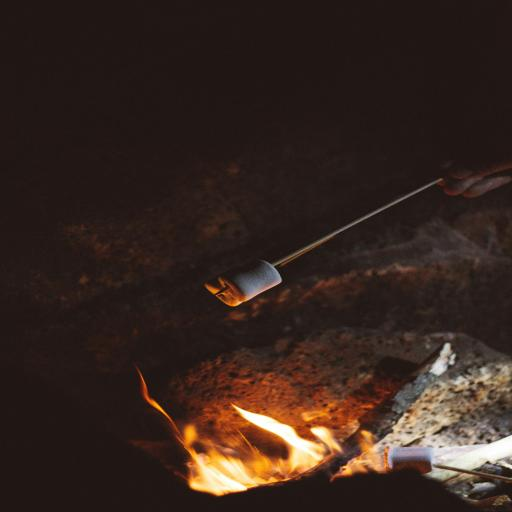fire: (85, 355, 433, 501)
